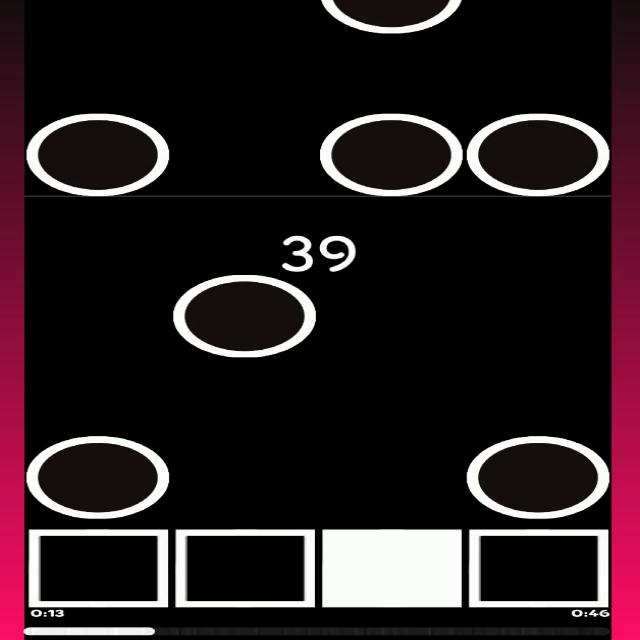note: (25, 432, 173, 519), (466, 112, 613, 198), (466, 434, 610, 521), (172, 274, 319, 358), (26, 112, 172, 196), (320, 111, 464, 196), (317, 0, 466, 35)
